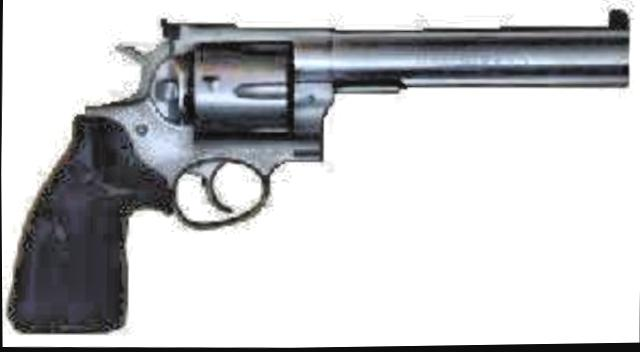pistol: (2, 0, 630, 342)
